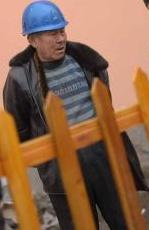hard-hat: (21, 0, 68, 36)
